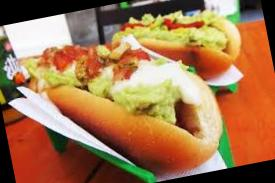Completos: (11, 14, 234, 183), (101, 0, 248, 105)
